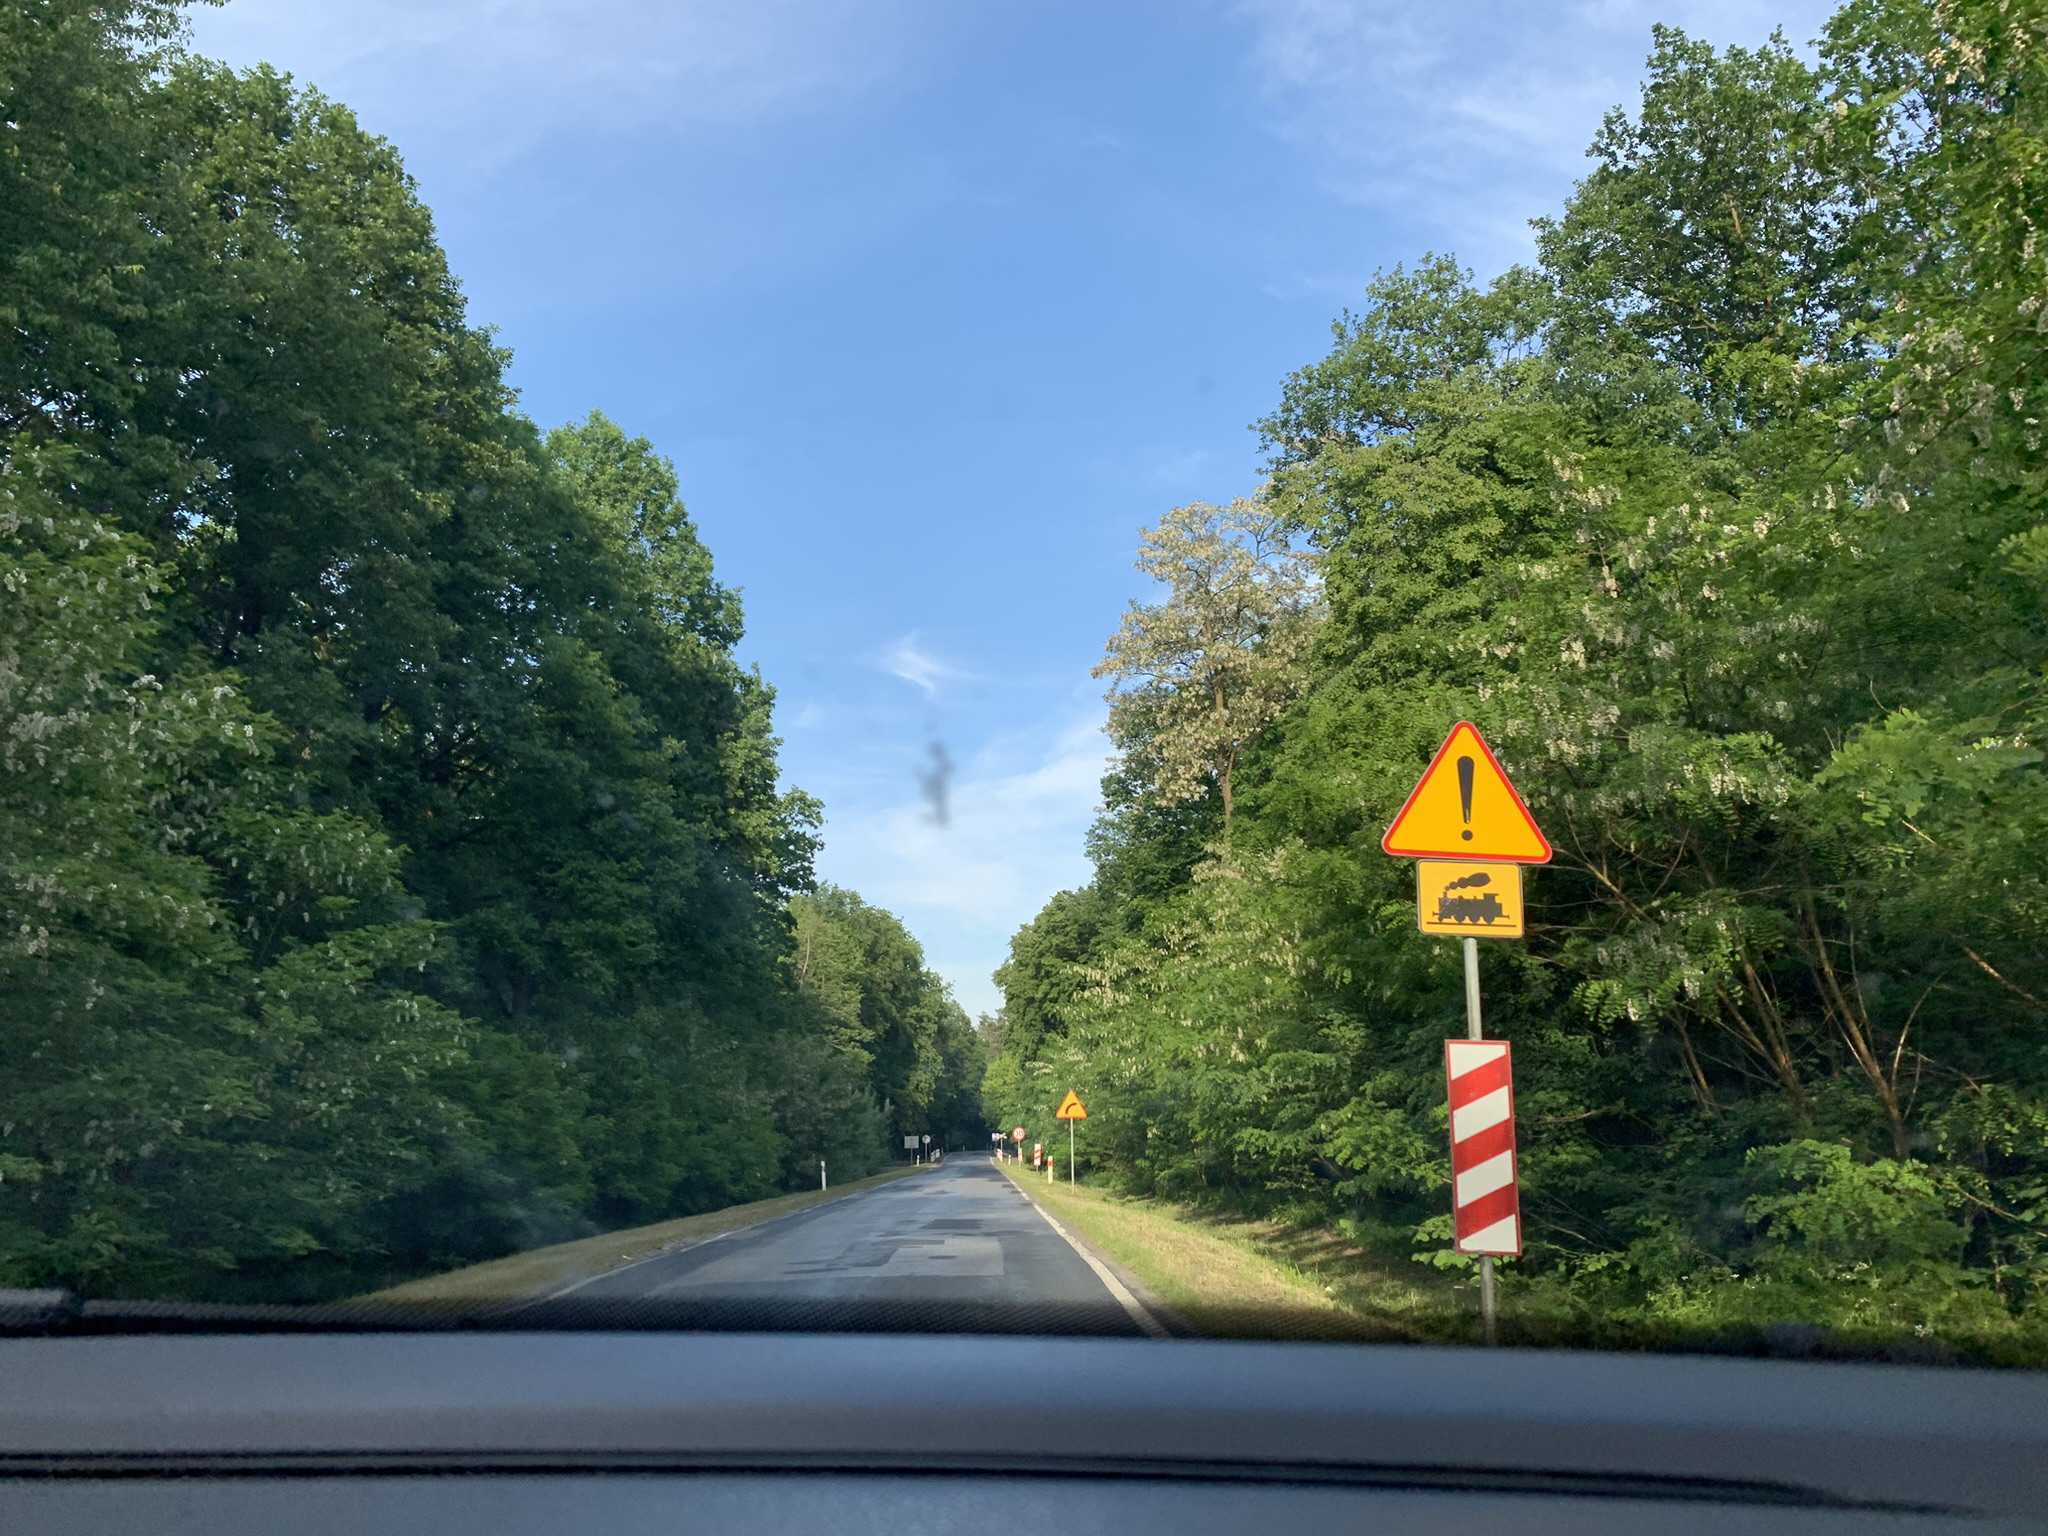t10: (1397, 718, 1538, 954)
